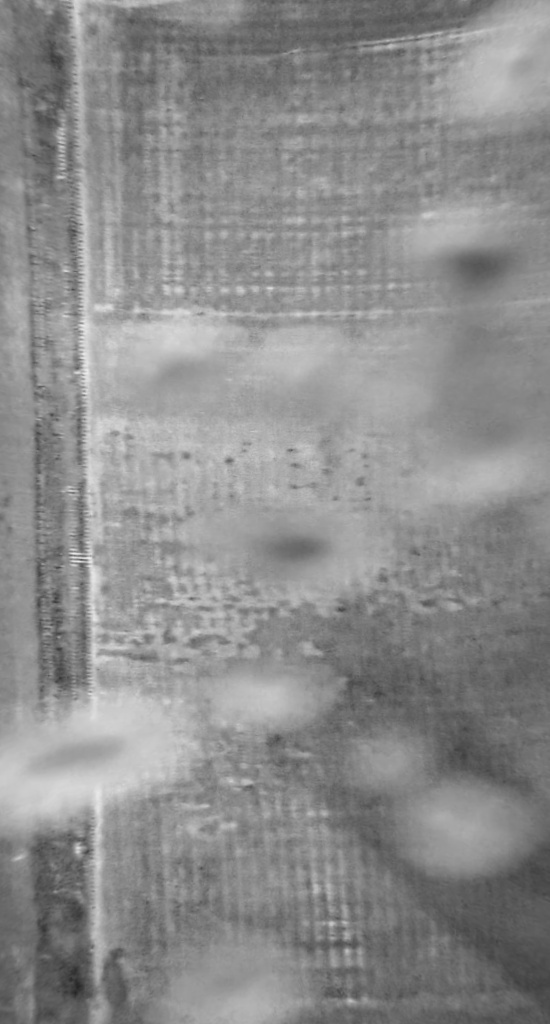splice: (10, 1, 107, 1021)
